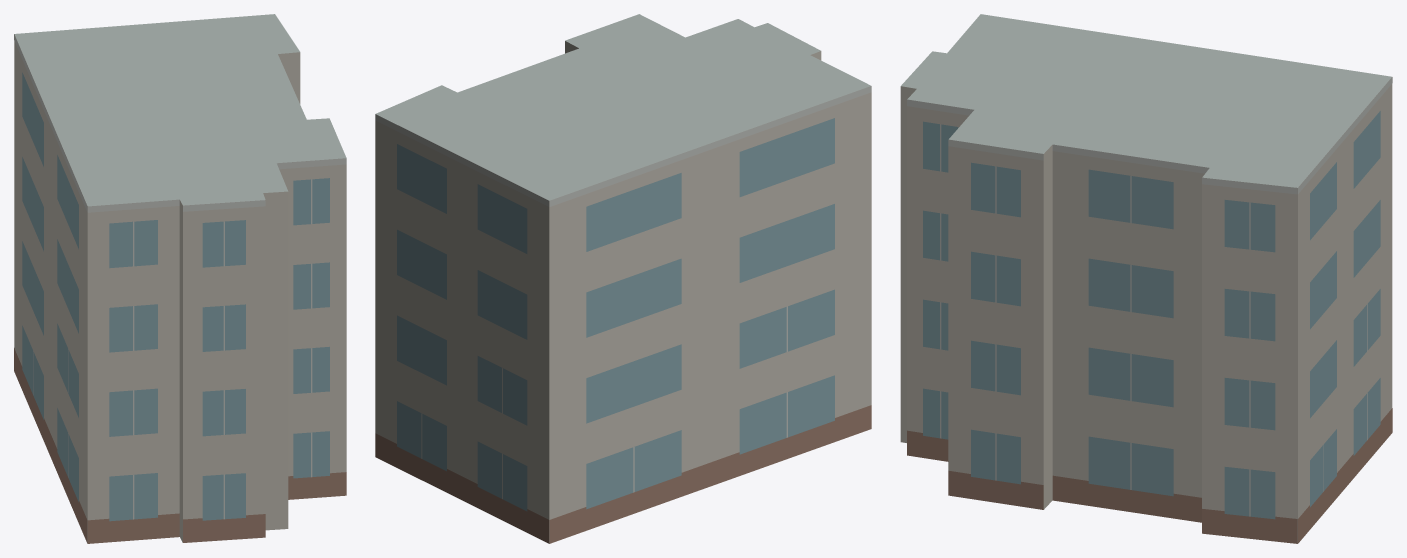
Rendered from survey-upis-32886818.glb.
3 views of the same model, side by side, from view 1: azimuth 30°, elevation 25°; view 2: azimuth 150°, elevation 25°; view 3: azimuth 270°, elevation 25° (orthographic). The views are drawn at different scales.
Visible parts, largest first — view 1: survey-upis-32886818.tmp; view 2: survey-upis-32886818.tmp; view 3: survey-upis-32886818.tmp.
Boxes of the visible parts, left/top/right/bottom form: survey-upis-32886818.tmp: left=14, top=14, right=346, bottom=543; survey-upis-32886818.tmp: left=375, top=14, right=871, bottom=543; survey-upis-32886818.tmp: left=900, top=14, right=1392, bottom=543.
Size of the model in its own units: 13.73 by 13.1 by 16.41.
